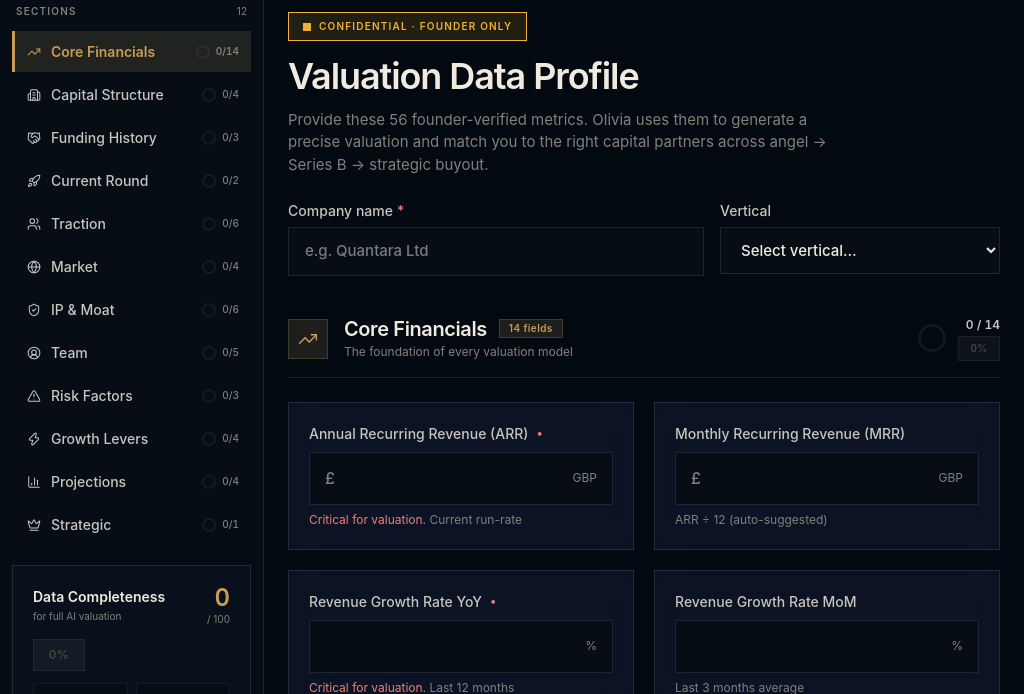
it: IntakeForm — Q6 vertical metamorphism › mounts the AI/SaaS schedule when AI/SaaS is selected
The width and height of the screenshot is (1024, 694).
Select "AI / SaaS" in the dropdown labelled "Vertical" at (860, 251), box [720,227,1000,274]
(page scrolled)
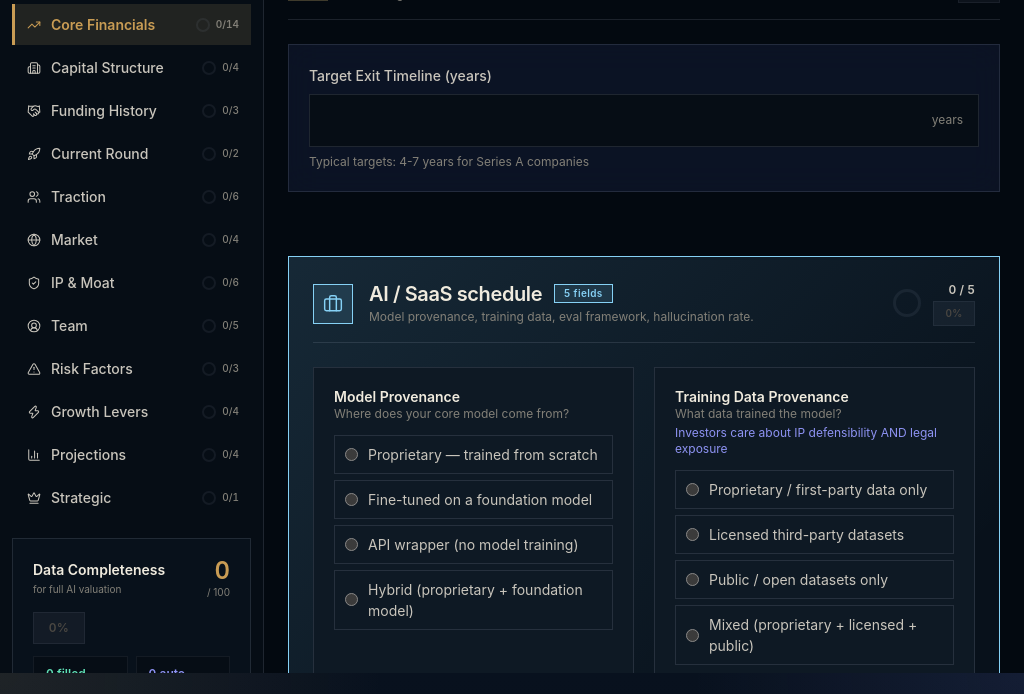
Result: the heading "AI / SaaS schedule" is shown at [369,282,542,306]
Result: the text "Training Data Provenance" is shown at [675,388,849,405]
Result: the text "hallucination rate" is shown at [369,309,754,324]
